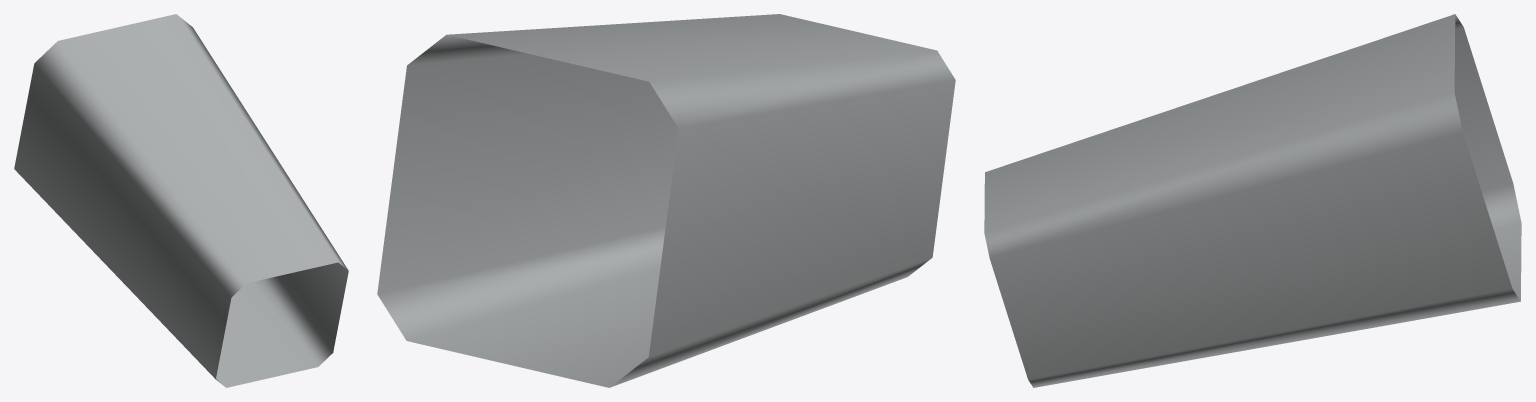
Rendered from Drone_002_L_Finger_003.fbx.
3 renders of one model, left to right at view 1: azimuth 30°, elevation 25°; view 2: azimuth 150°, elevation 25°; view 3: azimuth 270°, elevation 25°, orthographic. The views are drawn at different scales.
Parts seen in each view (by area): view 1: Drone_002_L_Finger_003; view 2: Drone_002_L_Finger_003; view 3: Drone_002_L_Finger_003.
Part boxes in pixels (x1=…): Drone_002_L_Finger_003: x1=14, y1=14, x2=348, y2=387; Drone_002_L_Finger_003: x1=377, y1=14, x2=955, y2=387; Drone_002_L_Finger_003: x1=984, y1=14, x2=1521, y2=387.
Bounding box in the file's own units: 1.78 × 3.93 × 2.49.
